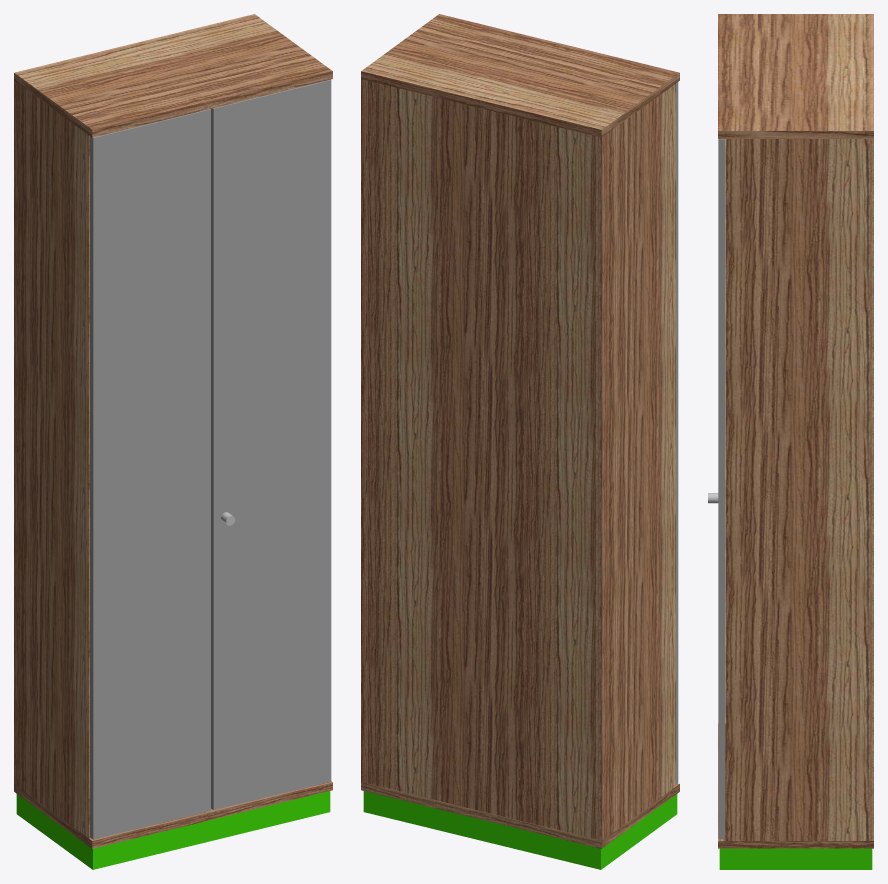
The model's file is baseline_6OH_+1OH_45x80_fin2.fbx.
The picture shows the model from 3 angles, left to right: view 1: azimuth 30°, elevation 25°; view 2: azimuth 150°, elevation 25°; view 3: azimuth 270°, elevation 25°; orthographic projection.
Visible parts, largest first — view 1: doorR, doorL, body_mesh, podstawa_mesh; view 2: body_mesh, podstawa_mesh, doorR; view 3: body_mesh, doorL, podstawa_mesh.
Boxes of the visible parts, x1=… form: doorR: x1=90, y1=109, x2=210, y2=839; doorL: x1=211, y1=79, x2=331, y2=810; body_mesh: x1=14, y1=14, x2=332, y2=848; podstawa_mesh: x1=16, y1=791, x2=330, y2=869; body_mesh: x1=361, y1=14, x2=679, y2=848; podstawa_mesh: x1=363, y1=791, x2=677, y2=869; doorR: x1=676, y1=82, x2=678, y2=784; body_mesh: x1=718, y1=14, x2=873, y2=848; doorL: x1=718, y1=139, x2=724, y2=839; podstawa_mesh: x1=719, y1=848, x2=872, y2=869.
Size of the model in its own units: 80 by 236 by 47.85.
